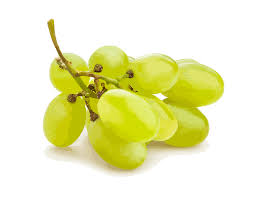Green grapes: (38, 42, 224, 174)
